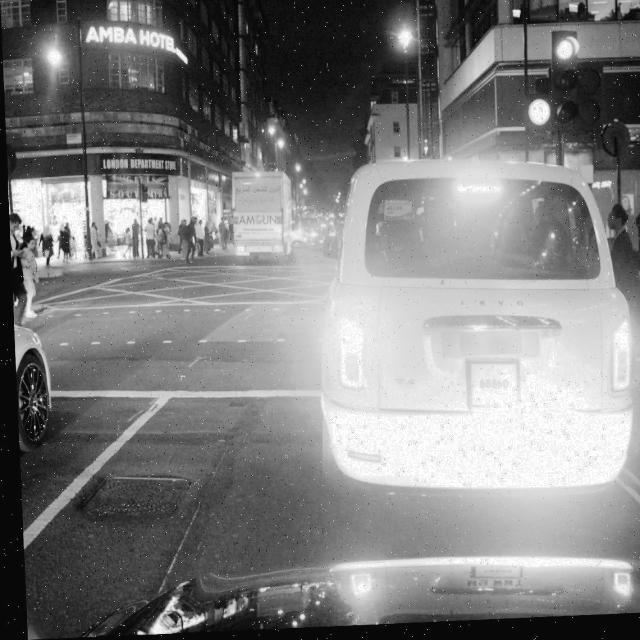Truck: (229, 172, 296, 266)
